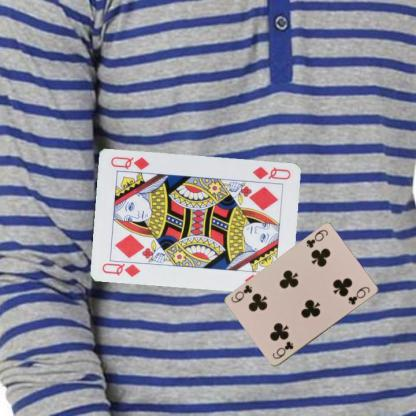6c: (304, 227, 330, 250), (270, 338, 294, 360)
Qd: (100, 257, 145, 278), (250, 164, 292, 180)
